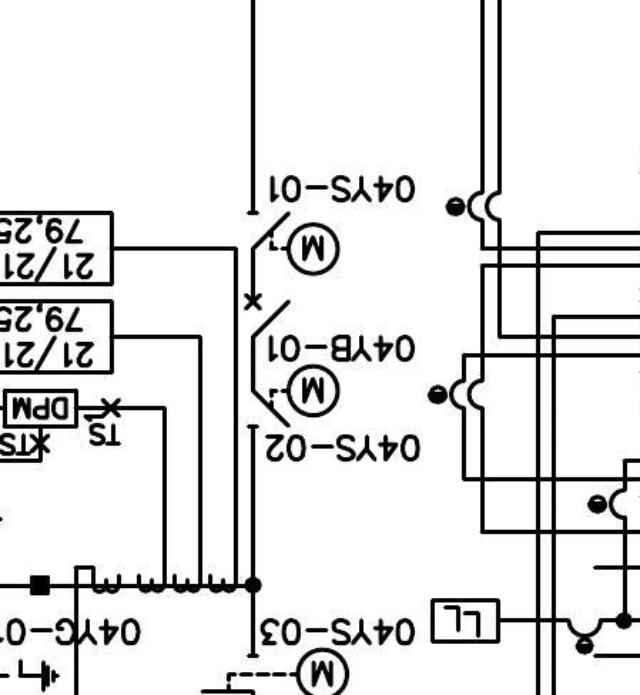115_1way_ds_w_motor: (246, 209, 342, 276), (246, 363, 342, 429)
115_breaker: (243, 292, 291, 338)
115_gs: (4, 657, 62, 694)
DPM: (3, 388, 79, 429)
LL: (431, 597, 502, 645)
